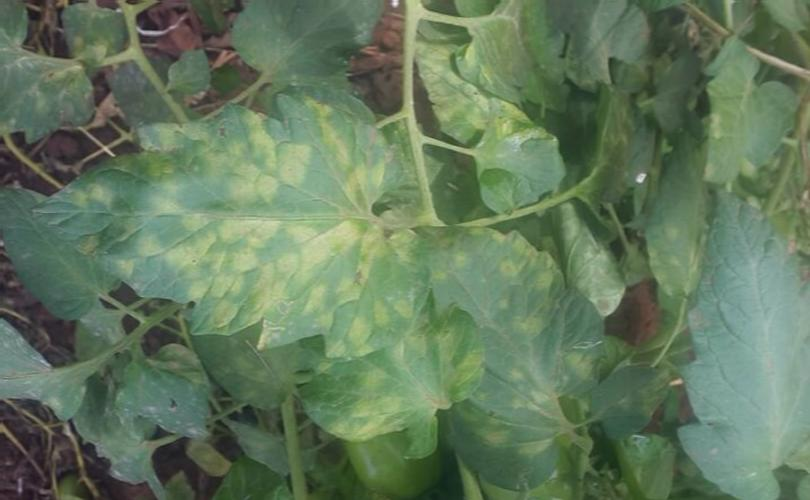Tomato mold leaf: (41, 88, 411, 360), (414, 225, 609, 472), (677, 187, 810, 484), (314, 286, 472, 449), (703, 50, 796, 180)
